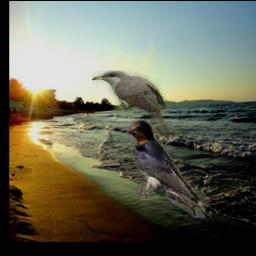Cuckoo: (92, 72, 170, 138)
Swallow: (128, 120, 213, 220)
